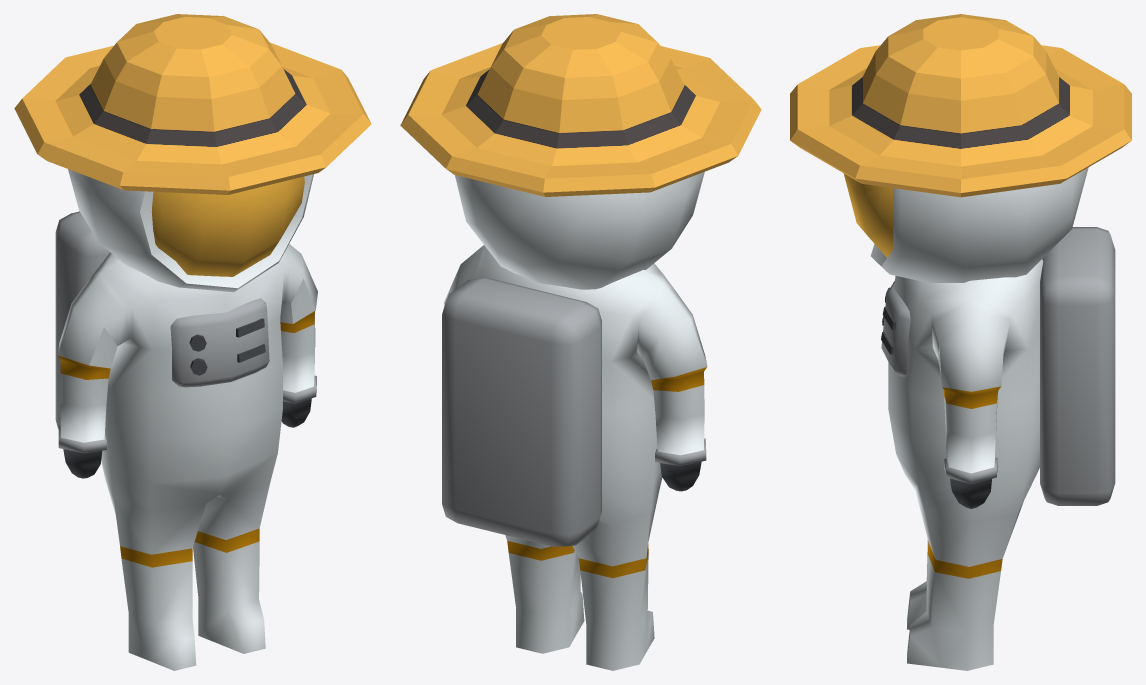
The model's file is Fammer.fbx.
3 views of the same model, side by side, from view 1: azimuth 30°, elevation 25°; view 2: azimuth 150°, elevation 25°; view 3: azimuth 270°, elevation 25° (orthographic).
Visible parts, largest first — view 1: Cylinder002; view 2: Cylinder002; view 3: Cylinder002.
Boxes of the visible parts, left/top/right/bottom form: Cylinder002: left=14, top=14, right=371, bottom=670; Cylinder002: left=400, top=14, right=761, bottom=670; Cylinder002: left=790, top=14, right=1131, bottom=670.
Size of the model in its own units: 0.258 by 0.2454 by 0.4807.
1 material, 1 textured.
